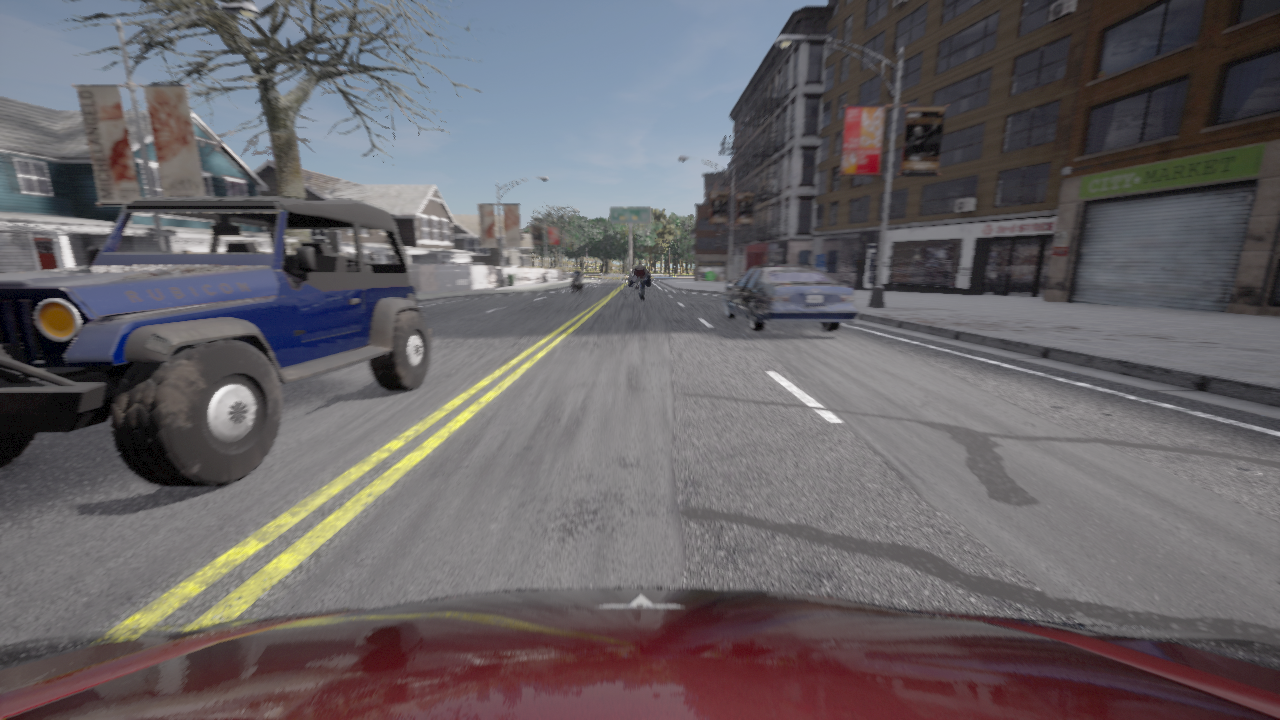cyclist: (0, 588, 1279, 719), (0, 198, 432, 487), (722, 265, 858, 331), (629, 270, 650, 285), (569, 273, 583, 294), (639, 284, 643, 299)
